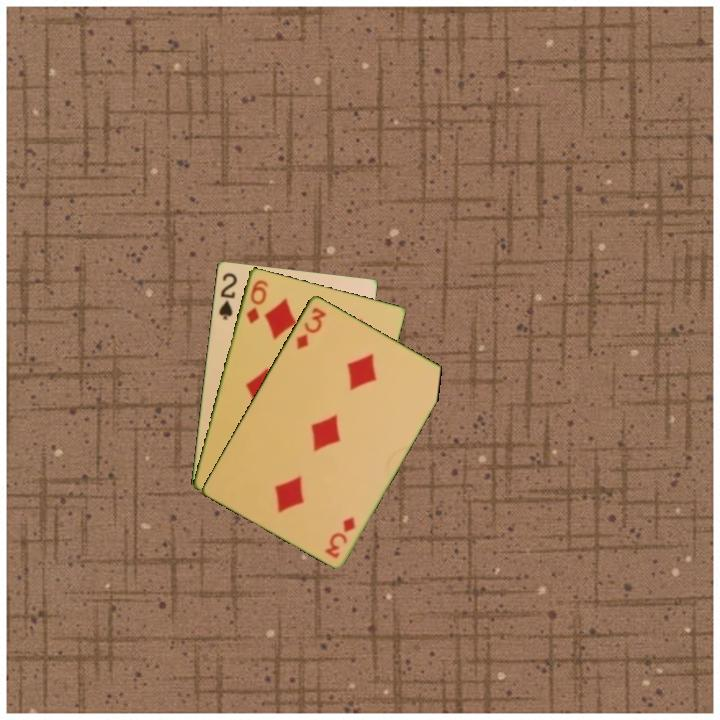2s: (215, 269, 240, 322)
3d: (292, 303, 329, 352), (322, 513, 358, 561)
6d: (243, 276, 271, 326)
